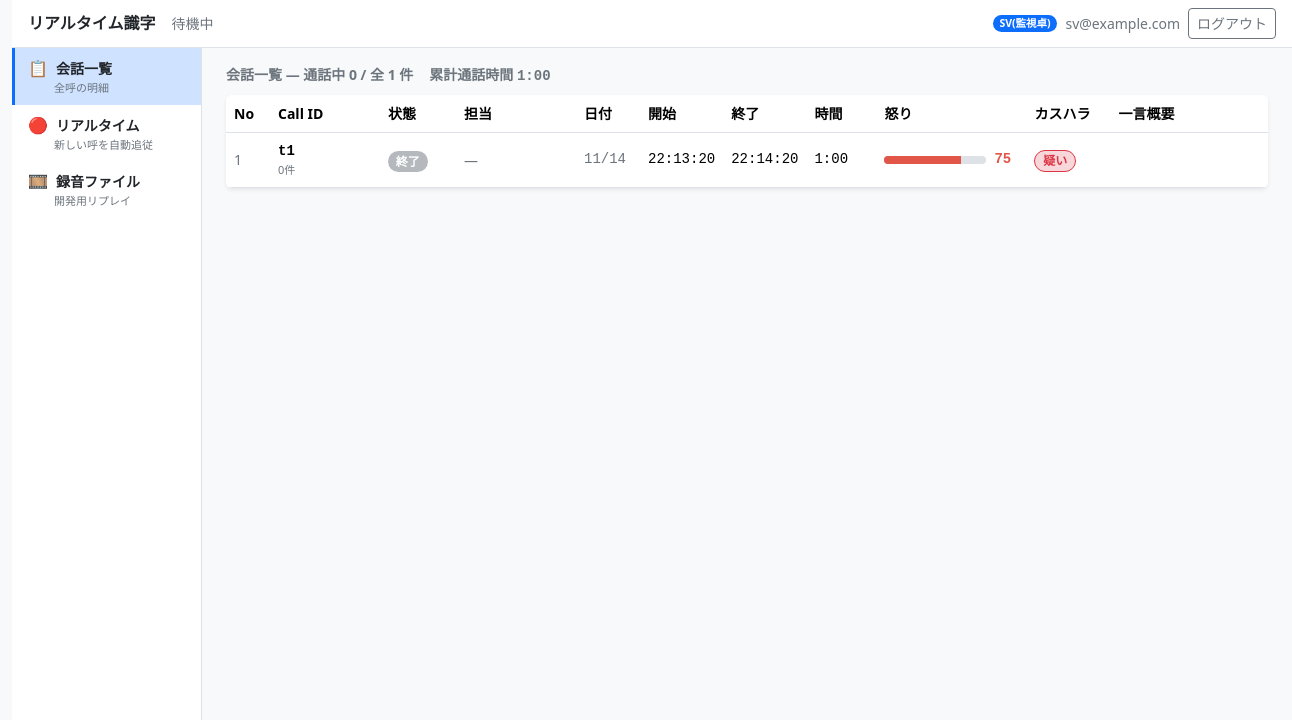
it: SVビュー › カード・再文字起こしが出て、アラートで音が鳴る
Click the button with test id "call-t1". click: (747, 160)
box: [226,132,1268,187]
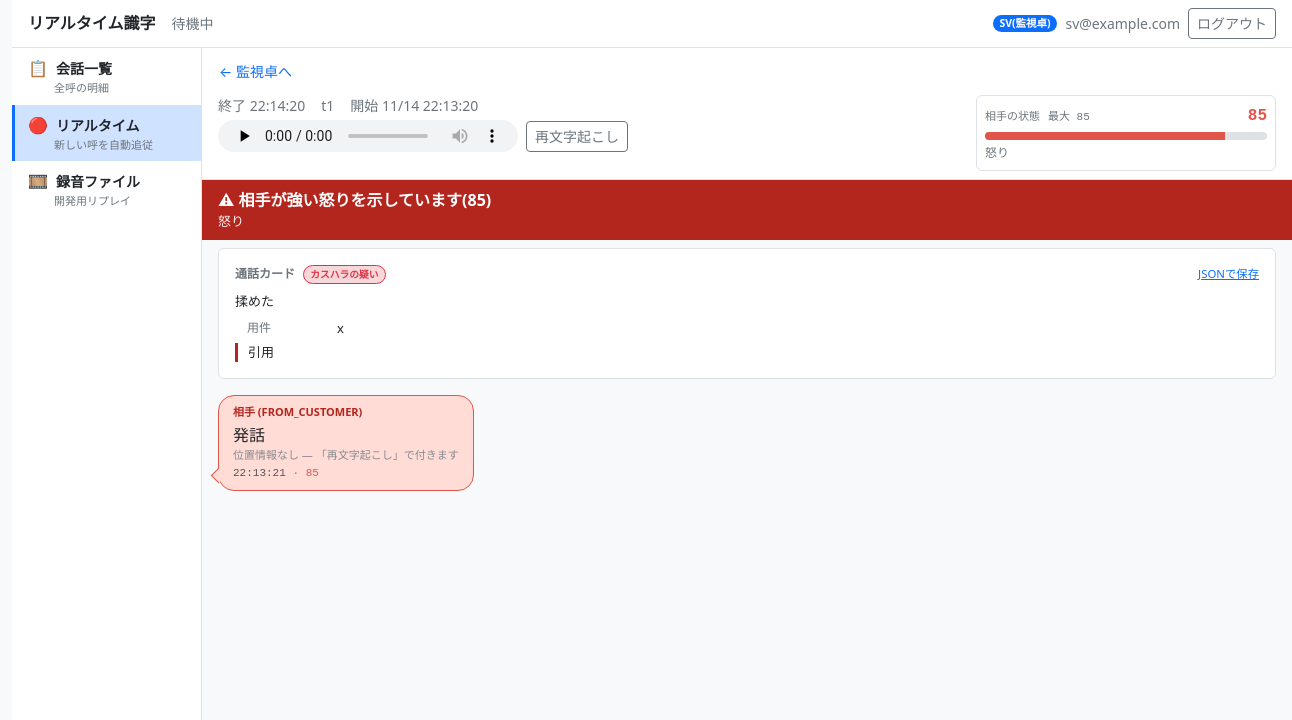
Now the element with test id "card" is shown, box [218,248,1276,379]
Now the button "再文字起こし" is shown, box [526,120,628,152]
